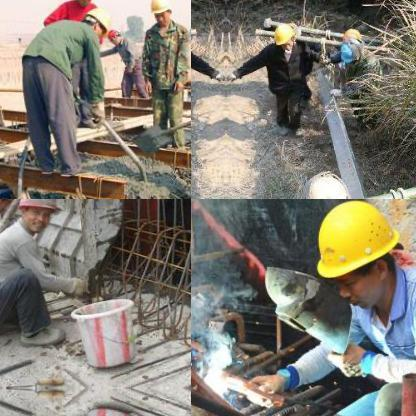Helmet: (304, 199, 398, 307), (11, 199, 59, 232), (297, 171, 350, 198), (82, 3, 110, 37), (334, 38, 362, 62), (148, 0, 173, 26), (272, 22, 292, 50), (339, 26, 361, 40), (106, 24, 120, 44)
